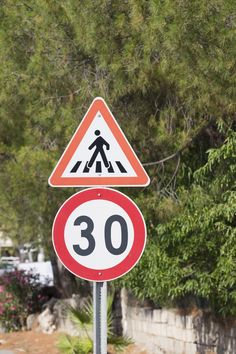Speed_limit_30km: (50, 187, 148, 280)
